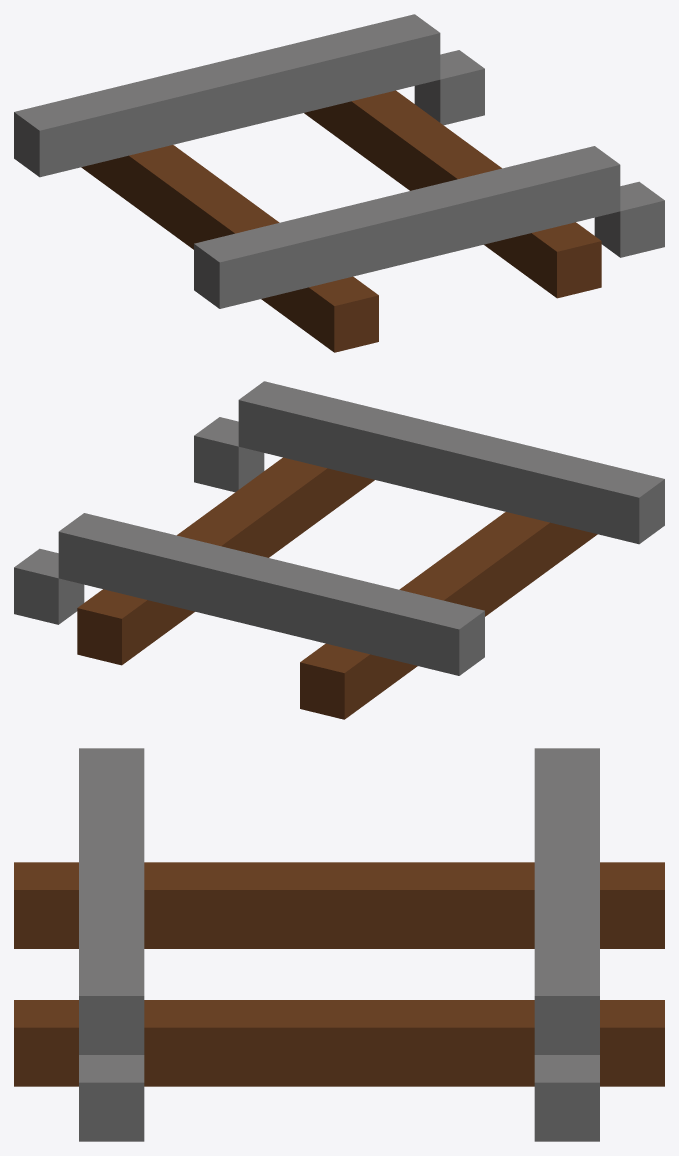
The model's file is rail_straight_updown.dae.
3 views of the same model, one above another, from view 1: azimuth 30°, elevation 25°; view 2: azimuth 150°, elevation 25°; view 3: azimuth 270°, elevation 25° (orthographic). The views are drawn at different scales.
Visible parts, largest first — view 1: PlaneCOL; view 2: PlaneCOL; view 3: PlaneCOL.
Boxes of the visible parts, x1,y1,x2,y2 form: PlaneCOL: (14, 14, 664, 352); PlaneCOL: (14, 381, 664, 719); PlaneCOL: (14, 748, 664, 1141).
Bounding box in the file's own units: 1 × 1 × 0.2.
